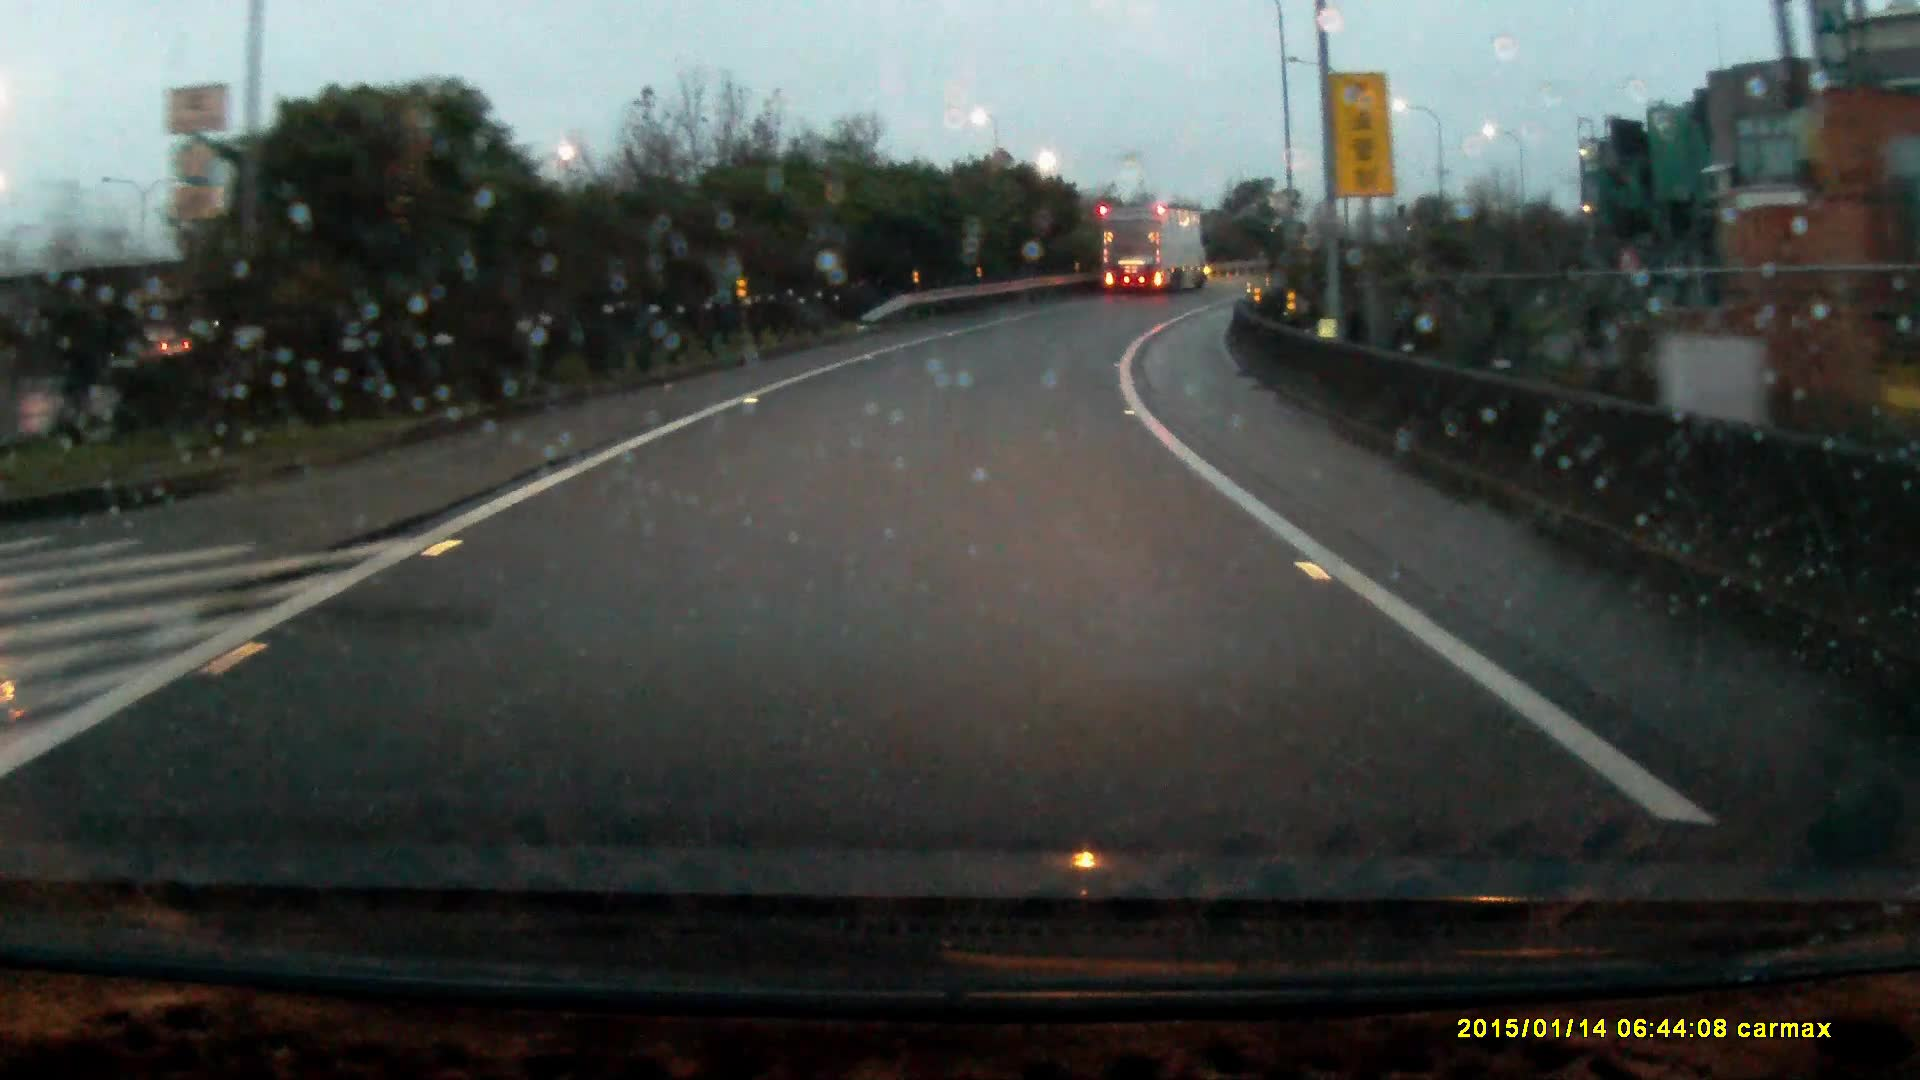vehicle: (1098, 202, 1209, 295)
